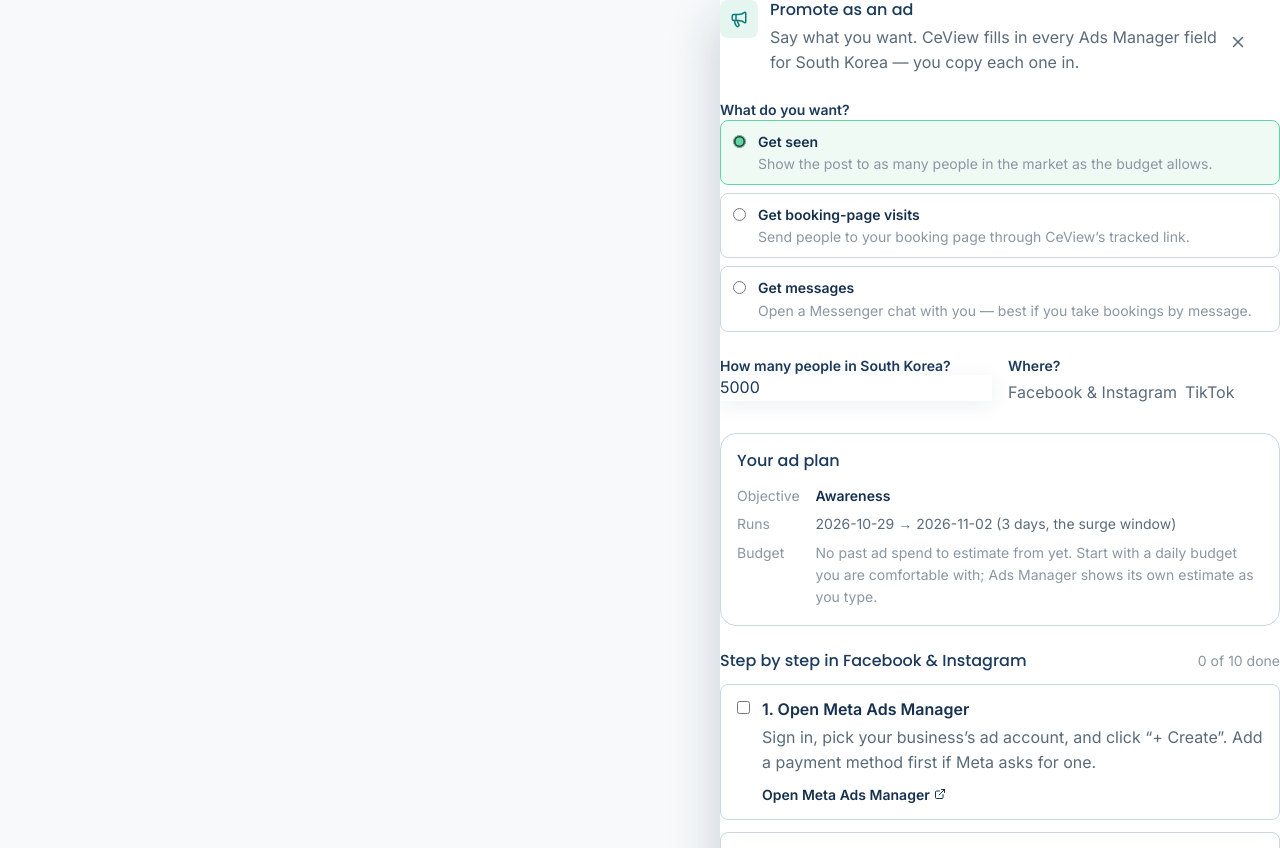
Test: AdPlannerDrawer › explains why TikTok message ads are not planned
Click the radio button labelled "Get messages" at (740, 288), box [733,281,746,294]
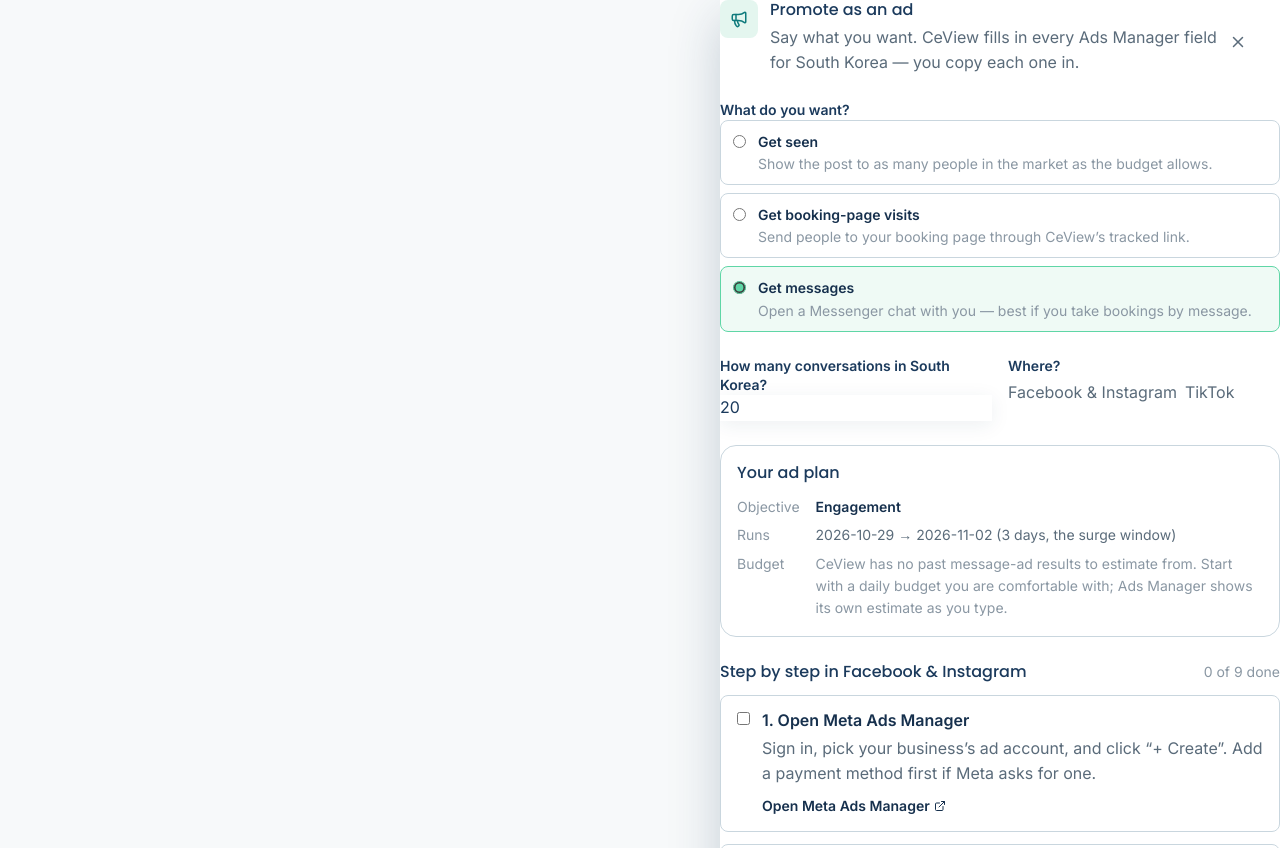
Click the button "TikTok" at (1210, 392), box [1185,375,1234,409]
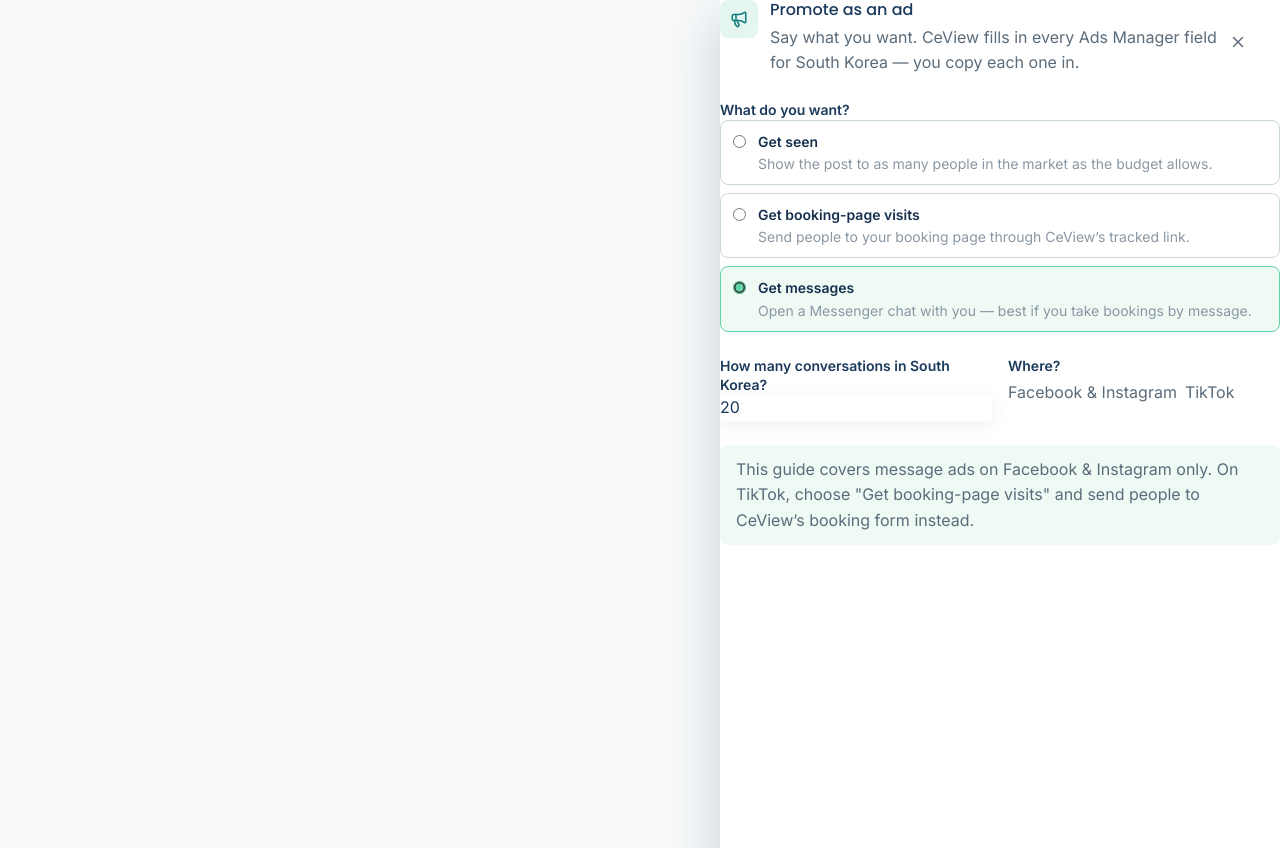
expect the message shows "message ads on Facebook & Instagram only": met, box [736,458,1238,530]
